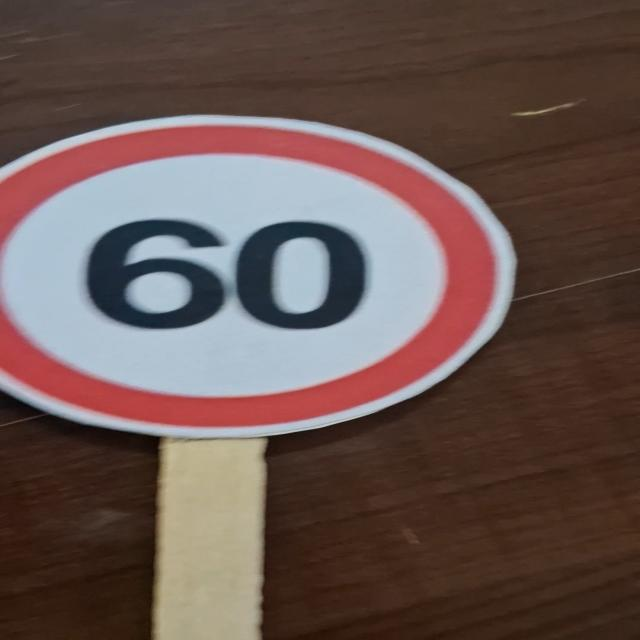Speed60: (0, 114, 521, 444)
